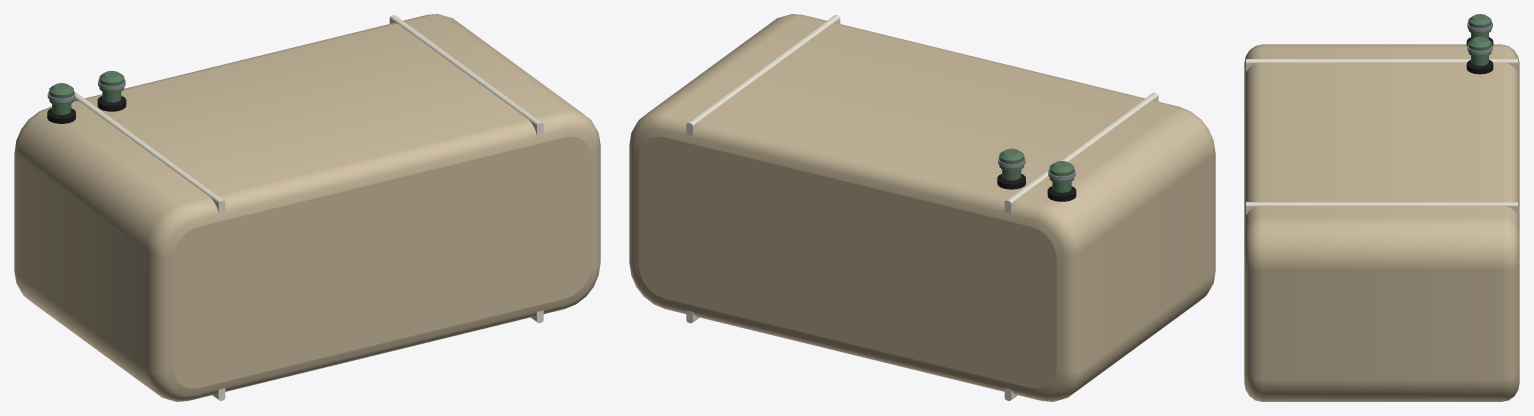
Rendered from t10_cabinet.obj.
3 views of the same model, side by side, from view 1: azimuth 30°, elevation 25°; view 2: azimuth 150°, elevation 25°; view 3: azimuth 270°, elevation 25° (orthographic). The views are drawn at different scales.
Visible parts, largest first — view 1: t10_cabinet; view 2: t10_cabinet; view 3: t10_cabinet.
Part boxes in pixels (bbox=[...]): t10_cabinet: bbox=[14, 14, 600, 401]; t10_cabinet: bbox=[629, 14, 1215, 401]; t10_cabinet: bbox=[1244, 14, 1519, 401].
Size of the model in its own units: 2.69 by 1.31 by 1.55.
